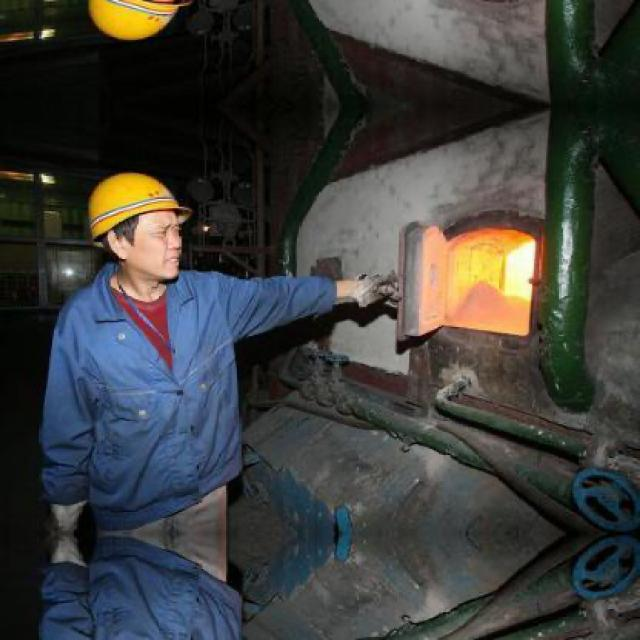helmet: (72, 159, 197, 288), (73, 0, 198, 56)
